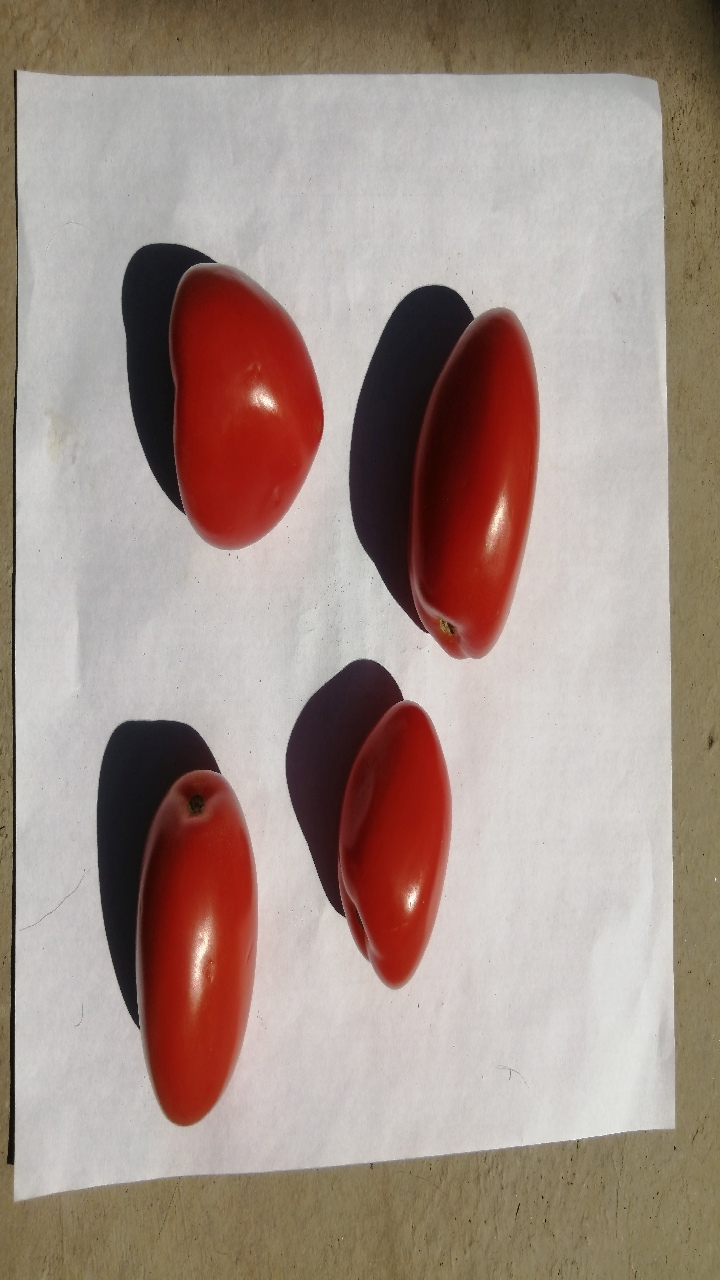tomateRojo: (371, 285, 564, 677), (92, 739, 268, 1126), (138, 245, 338, 577), (315, 675, 478, 1002)
